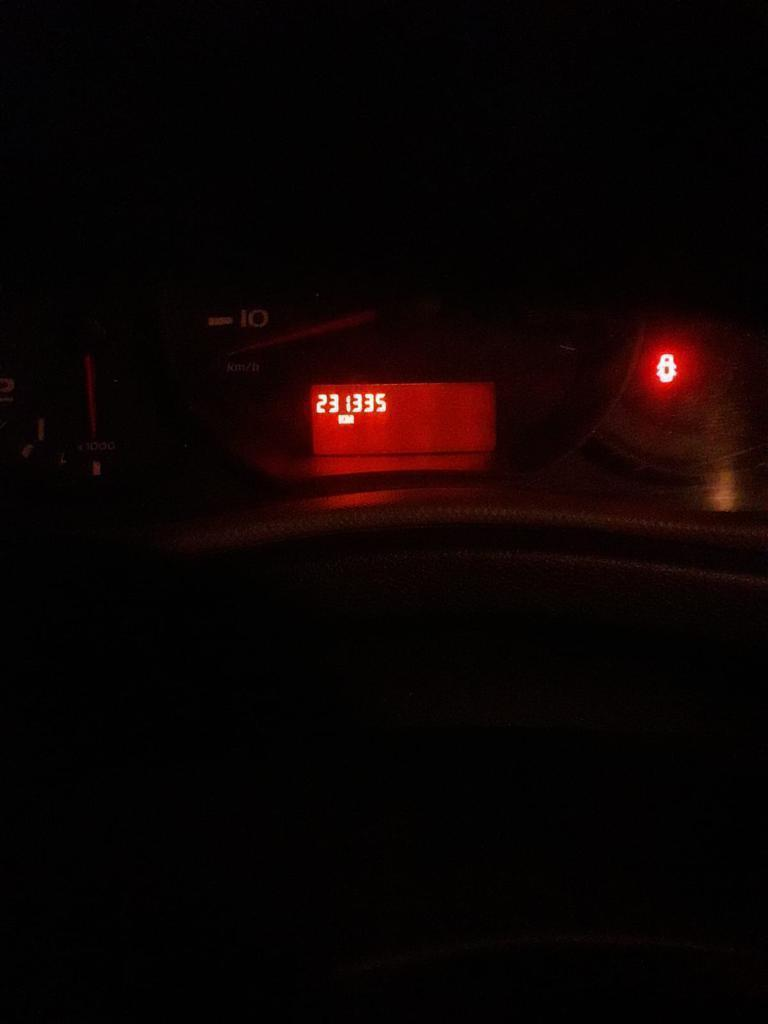1: (343, 393, 350, 412)
2: (314, 393, 327, 414)
3: (328, 392, 339, 413), (363, 392, 374, 413), (352, 392, 361, 413)
5: (375, 392, 386, 413)
X: (345, 414, 355, 424), (337, 413, 344, 425)
odometer: (304, 378, 500, 458)
